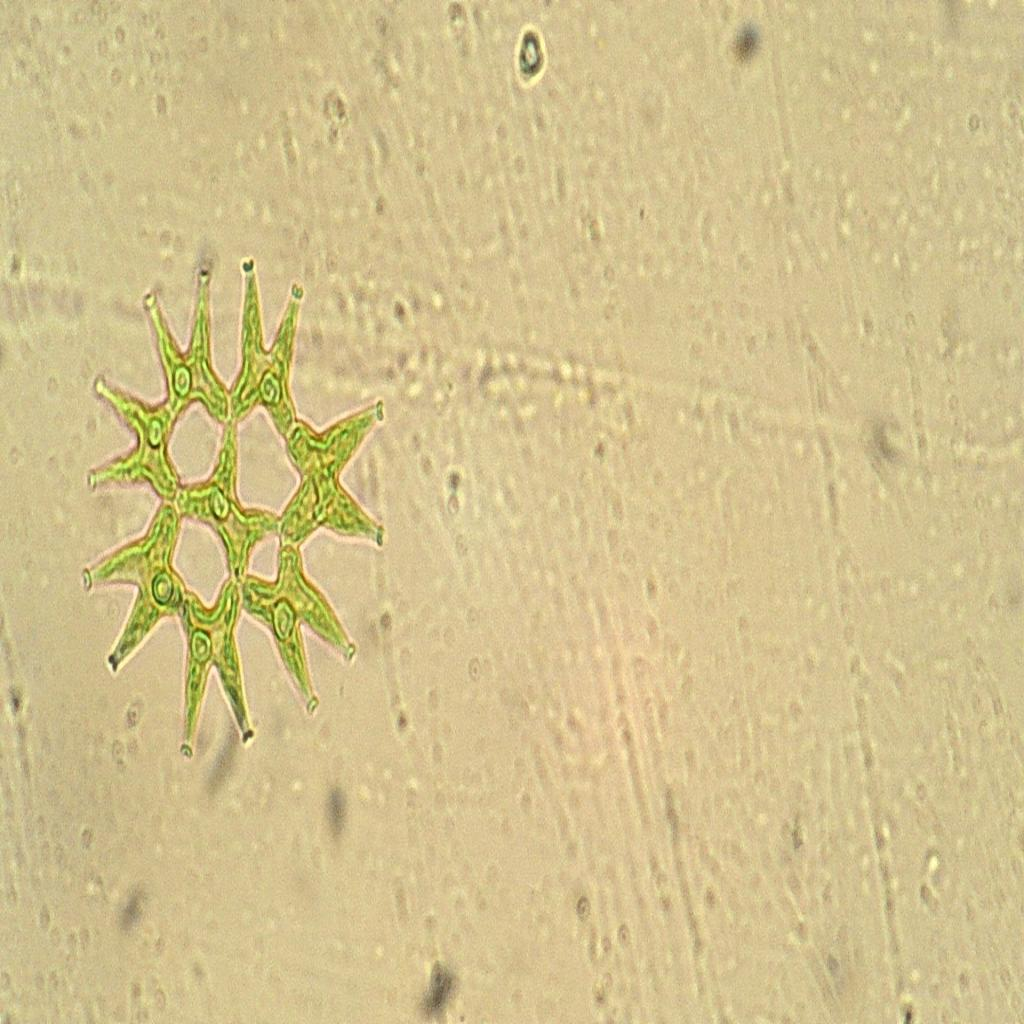Pediastrum_75T: (68, 205, 400, 811)
